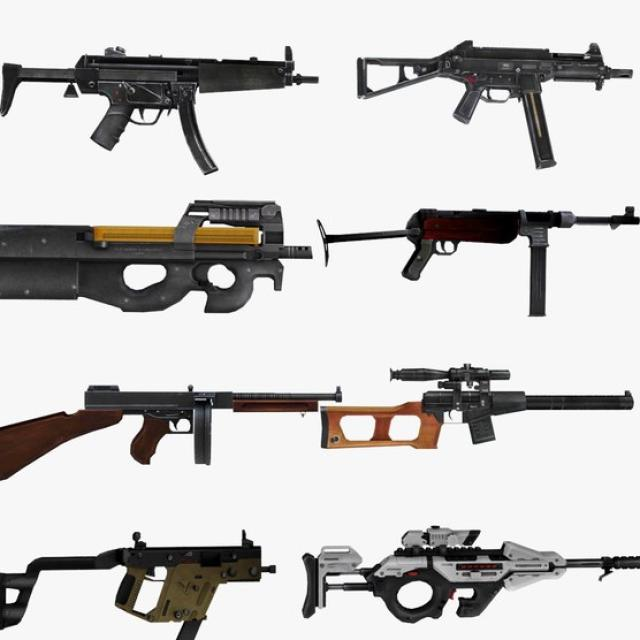Weapon: (1, 47, 318, 174), (358, 40, 632, 168), (0, 200, 311, 312), (318, 207, 639, 315), (305, 526, 640, 622), (0, 386, 341, 479), (0, 531, 274, 640), (323, 364, 633, 448)
